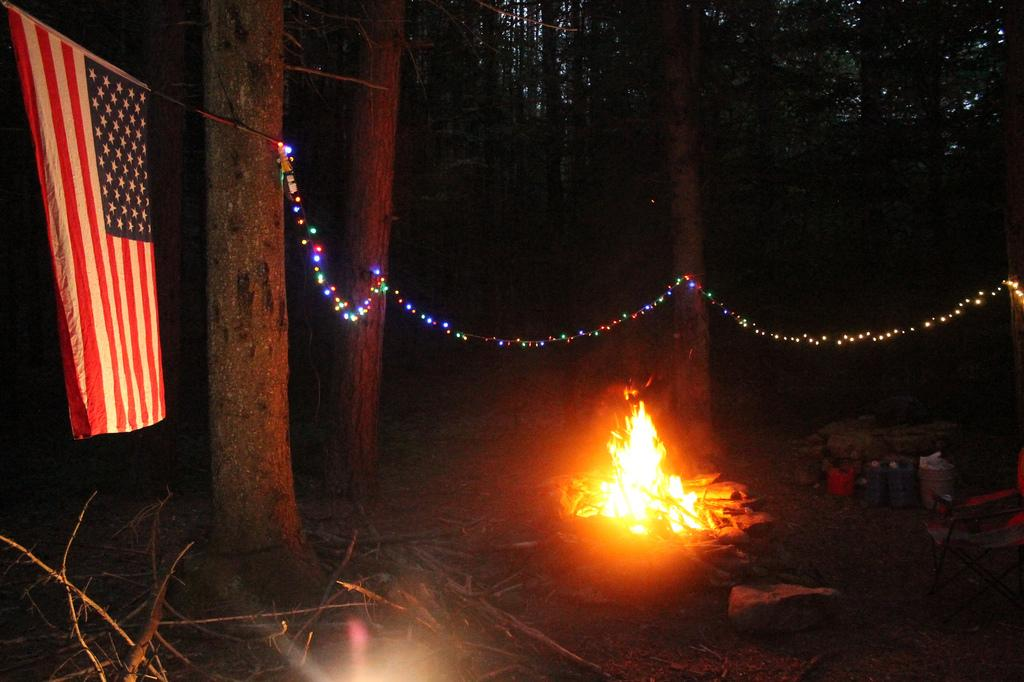fire: (592, 422, 687, 527)
